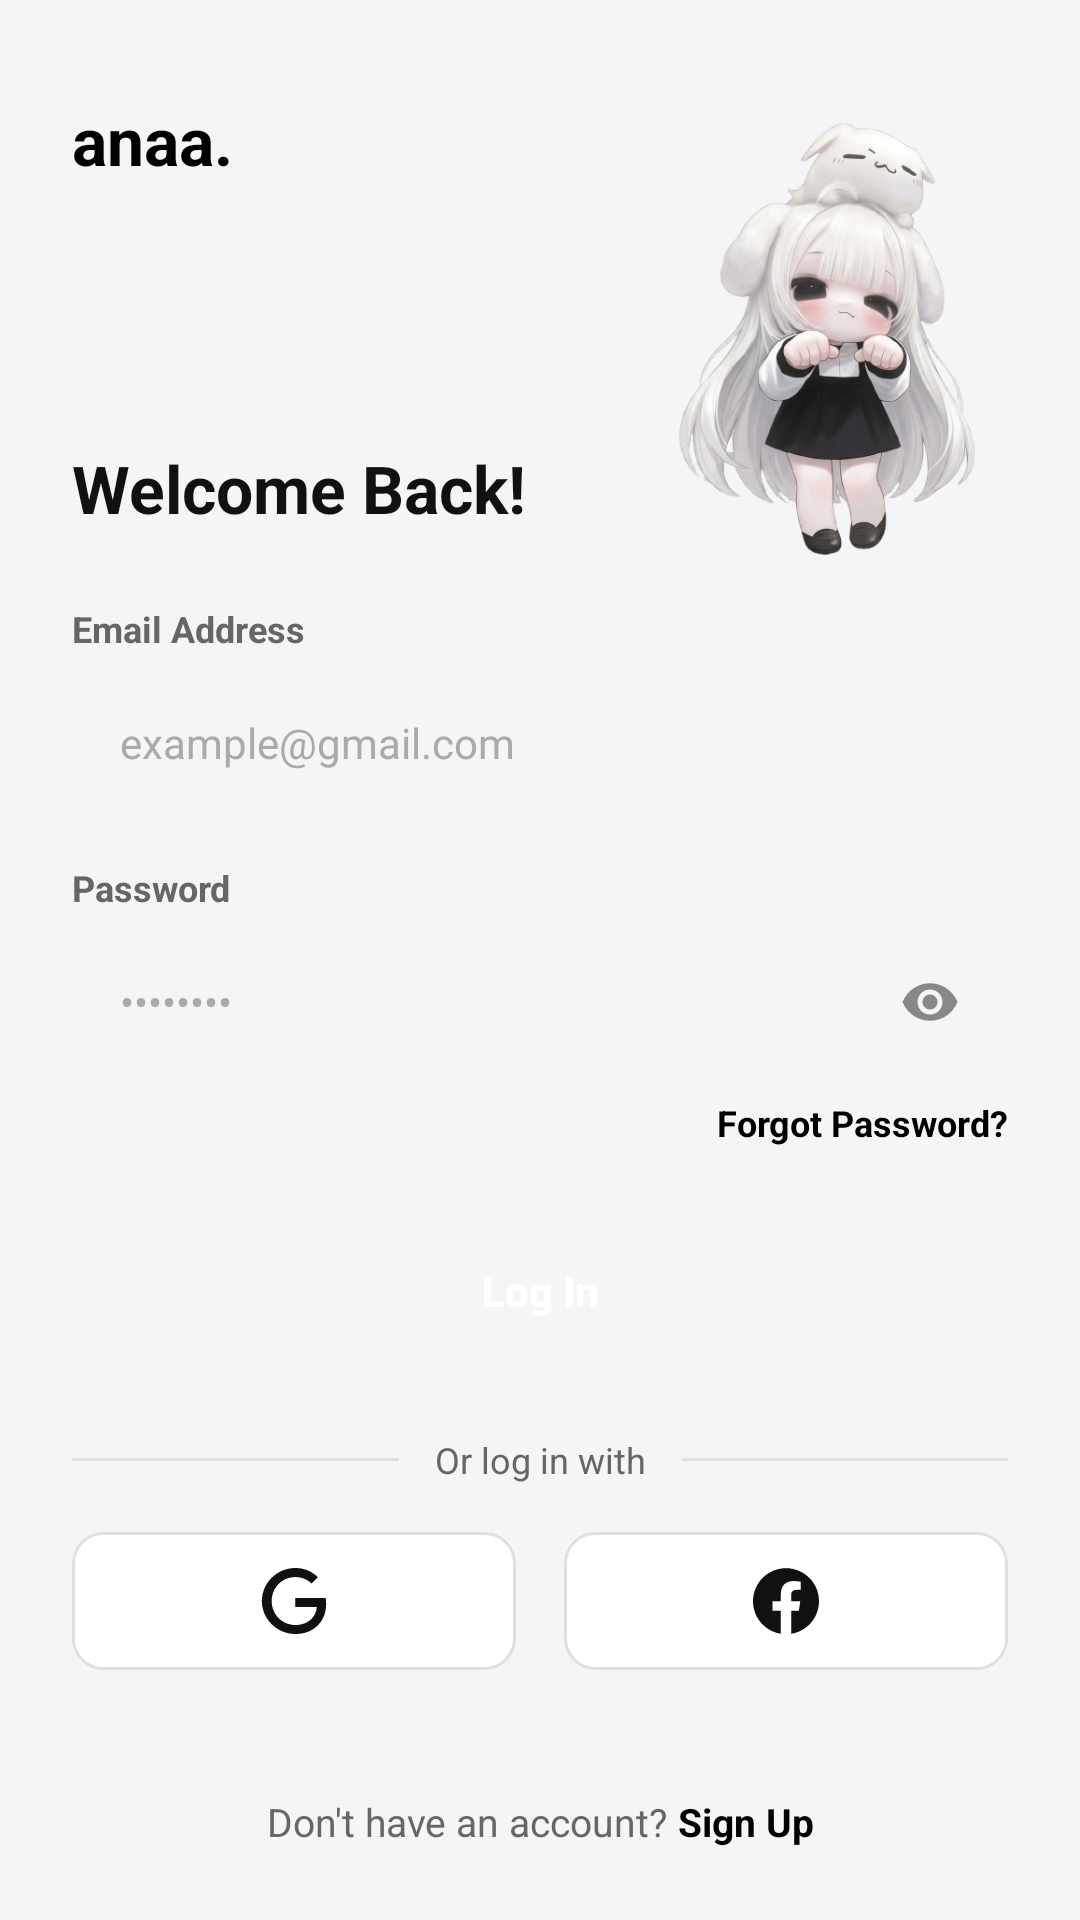

Icon click points for this 1080px×1920px phone screenshot, format (x=x, y=y):
Password Toggle: (x=930, y=1002)
